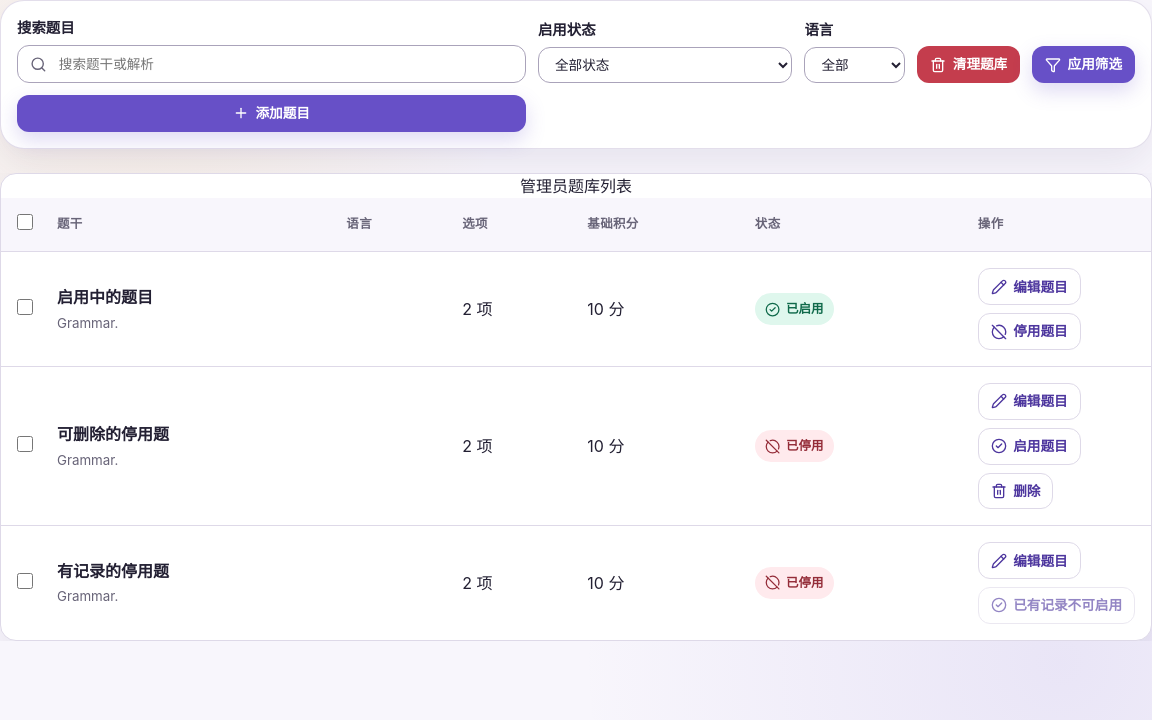
Test: AdminQuestionsPage 删除 › 删除失败保留确认弹窗并展示错误
The image size is (1152, 720).
Expected: the text "可删除的停用题" is shown, 57,424 -> 169,444
Click the button "删除": x=1016, y=491 978,472 -> 1054,509
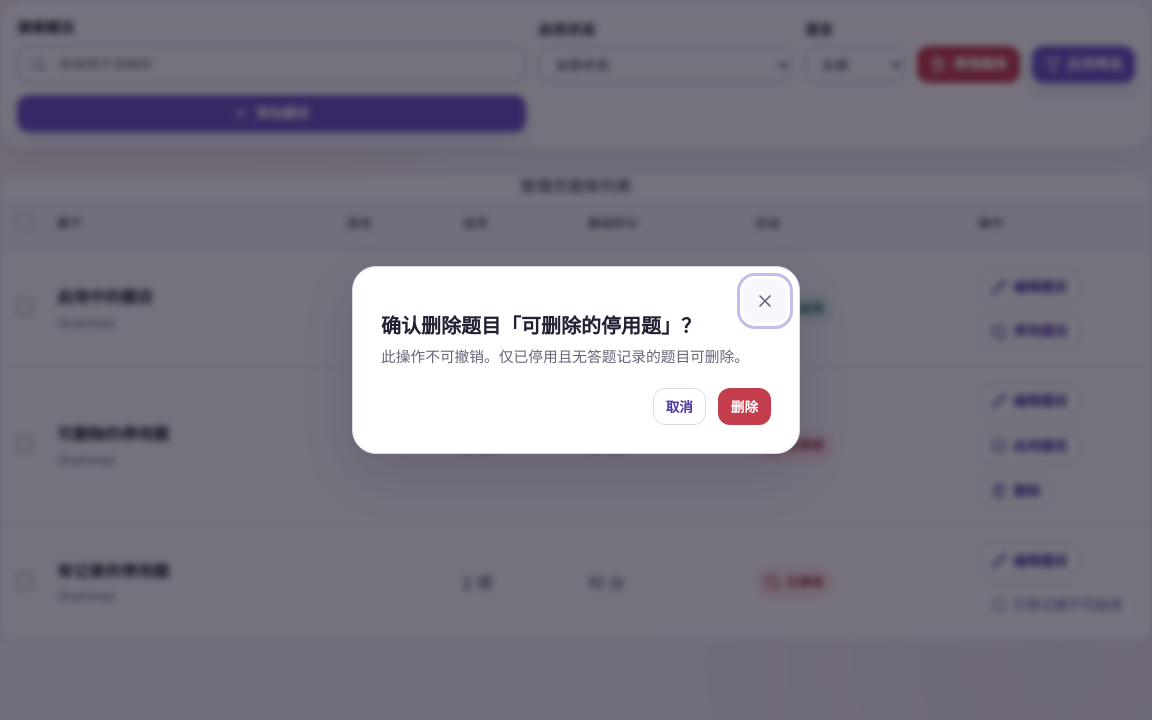
Click the button "删除": x=744, y=407 718,388 -> 771,425
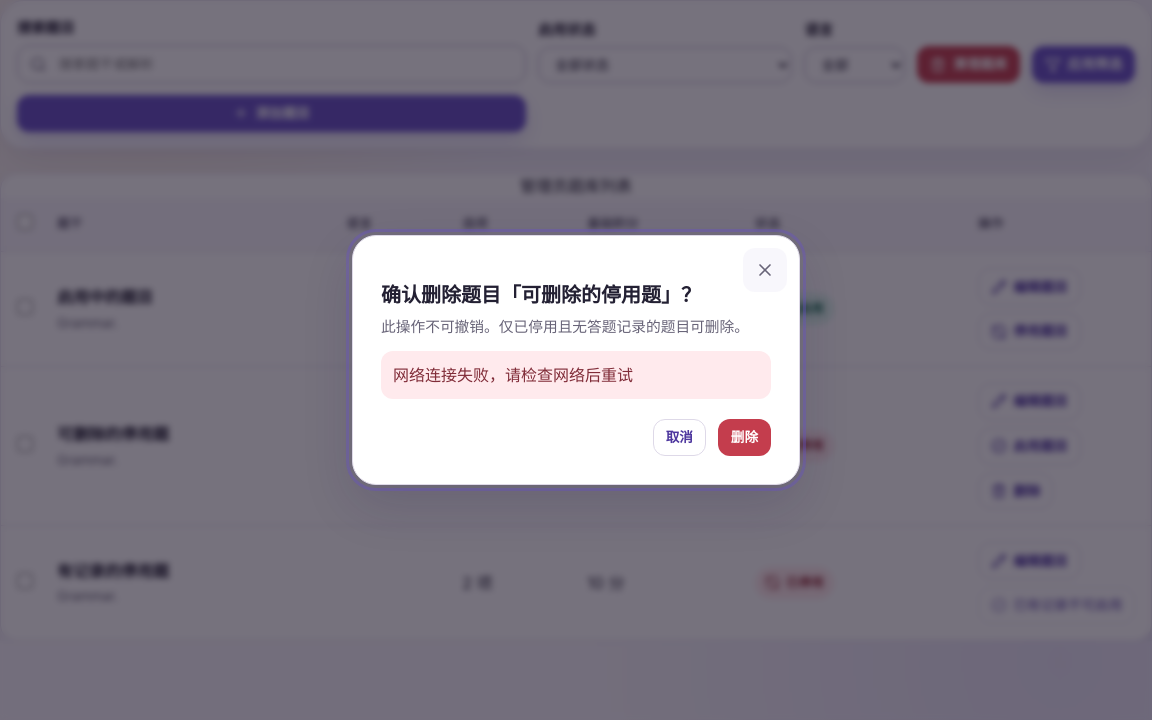
Expected: the dialog "确认删除题目「可删除的停用题」？" is shown, 352,235 -> 800,485
Expected: the message reads "网络连接失败，请检查网络后重试", 393,365 -> 633,385
